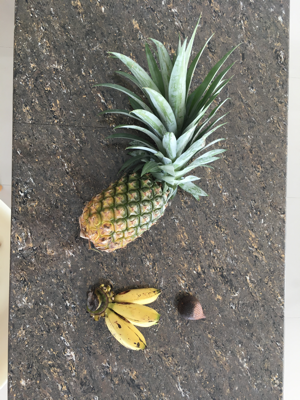banana: (88, 279, 163, 355)
pineapple: (77, 20, 233, 252)
snake fruit: (179, 297, 205, 322)
